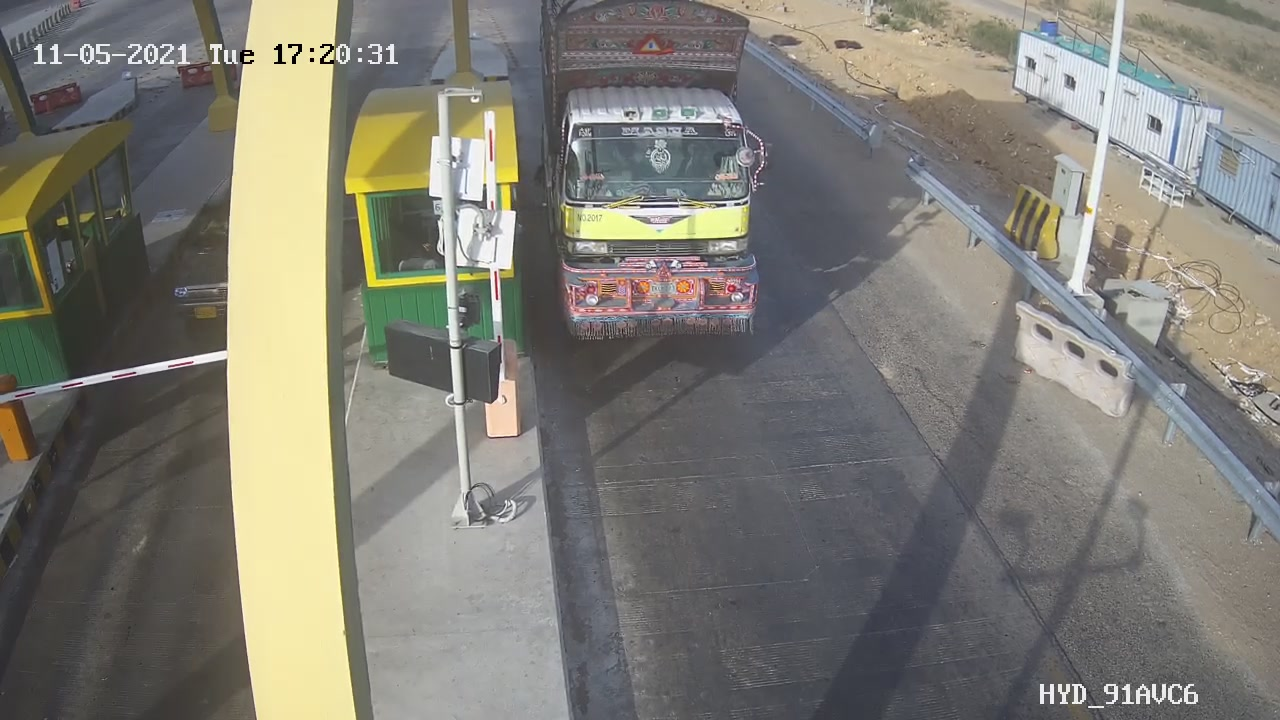F6: (517, 1, 792, 364)
